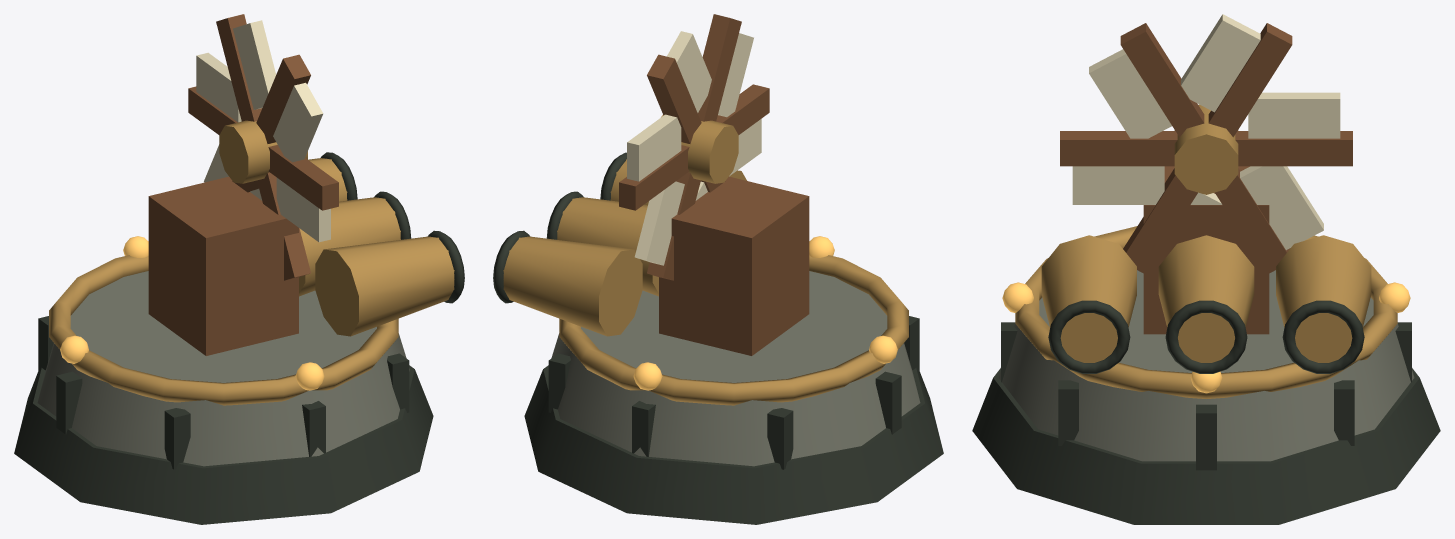
The model's file is tower_wind_windRotor_ultimate.glb.
3 views of the same model, side by side, from view 1: azimuth 30°, elevation 25°; view 2: azimuth 150°, elevation 25°; view 3: azimuth 270°, elevation 25° (orthographic). The views are drawn at different scales.
Parts seen in each view (by area): view 1: stone_1, foot_0, mill_15, air_nozzle_29, rim_2, air_nozzle_31, hub_16, sail_22, sail_20, spar_23, spar_21, sail_18 (+15 smaller); view 2: stone_1, foot_0, mill_15, air_nozzle_33, rim_2, air_nozzle_31, hub_16, spar_21, sail_18, spar_19, sail_28, spar_17 (+15 smaller); view 3: foot_0, stone_1, rim_2, air_nozzle_31, air_nozzle_29, air_nozzle_33, mill_15, sail_18, sail_20, spar_23, hub_16, sail_28 (+17 smaller).
Part boxes in pixels (x1,y1,x2,y2): stone_1: (37, 271, 409, 466); foot_0: (14, 365, 433, 524); mill_15: (148, 176, 298, 355); air_nozzle_29: (315, 236, 454, 336); rim_2: (49, 255, 398, 405); air_nozzle_31: (299, 197, 400, 296); hub_16: (219, 120, 307, 183); sail_22: (273, 82, 323, 162); sail_20: (233, 20, 276, 109); spar_23: (268, 145, 338, 210); spar_21: (256, 54, 310, 143); sail_18: (196, 52, 241, 122); stone_1: (548, 271, 920, 466); foot_0: (524, 365, 943, 524); mill_15: (659, 176, 809, 355); air_nozzle_33: (503, 236, 642, 336); rim_2: (559, 255, 908, 405); air_nozzle_31: (557, 197, 658, 296); hub_16: (661, 115, 738, 183); spar_21: (698, 14, 741, 121); sail_18: (627, 114, 681, 181); spar_19: (647, 54, 701, 143); sail_28: (634, 181, 684, 265); spar_17: (619, 145, 689, 210); foot_0: (972, 368, 1440, 524); stone_1: (998, 270, 1414, 461); rim_2: (1015, 226, 1397, 398); air_nozzle_31: (1158, 235, 1254, 362); air_nozzle_29: (1041, 235, 1136, 362); air_nozzle_33: (1276, 235, 1371, 362); mill_15: (1143, 166, 1269, 334); sail_18: (1248, 92, 1340, 138); sail_20: (1181, 14, 1260, 112); spar_23: (1060, 131, 1177, 166); hub_16: (1174, 104, 1238, 194); sail_28: (1240, 166, 1323, 250).
Bounding box in the file's own units: 0.5326 × 0.5736 × 0.56.
